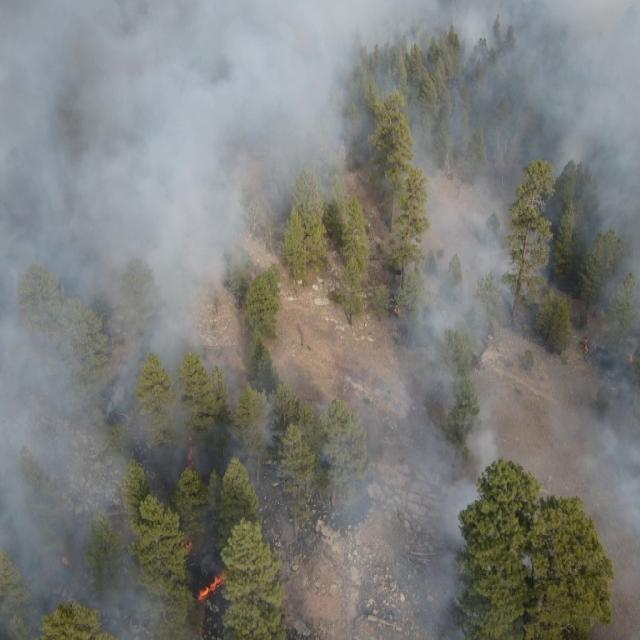fire: (194, 562, 233, 608), (184, 427, 198, 479), (180, 532, 197, 556), (580, 336, 593, 356), (392, 298, 404, 318), (61, 550, 72, 568), (624, 351, 636, 367)
smoke: (0, 1, 222, 640), (221, 372, 640, 640), (220, 0, 640, 194), (389, 193, 552, 373), (556, 195, 640, 375), (222, 192, 280, 314)
